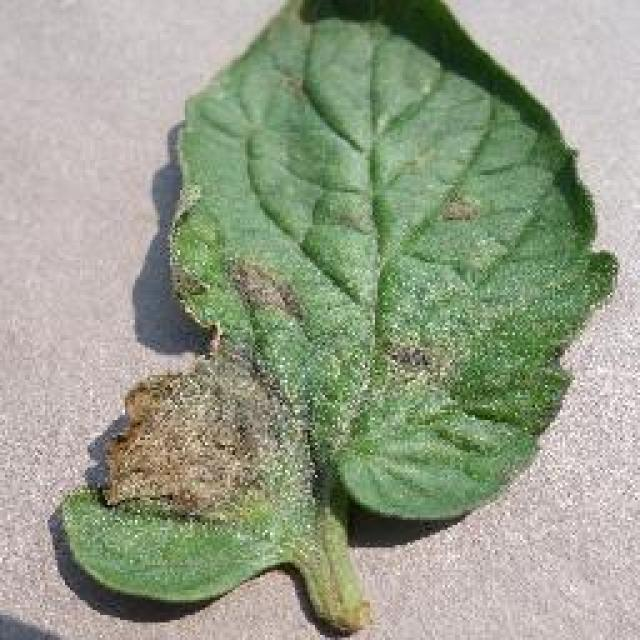Tomato_Late_Blight: (110, 265, 320, 530)
